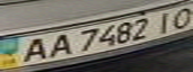2: (130, 16, 157, 42)
4: (96, 23, 121, 48)
7: (75, 26, 100, 53)
8: (115, 19, 139, 46)
A: (12, 35, 54, 64), (42, 31, 75, 60)
I: (148, 9, 178, 35)
O: (166, 3, 193, 30)
